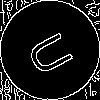U: (25, 25, 83, 79)
